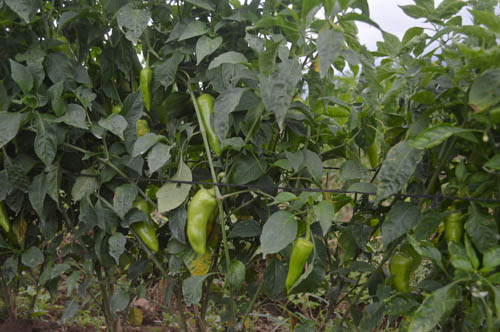ChiliPepper: (186, 188, 218, 257), (281, 238, 319, 292), (196, 94, 222, 157), (129, 200, 156, 250), (385, 251, 412, 290), (438, 209, 464, 246), (360, 138, 380, 169), (138, 68, 153, 107)
